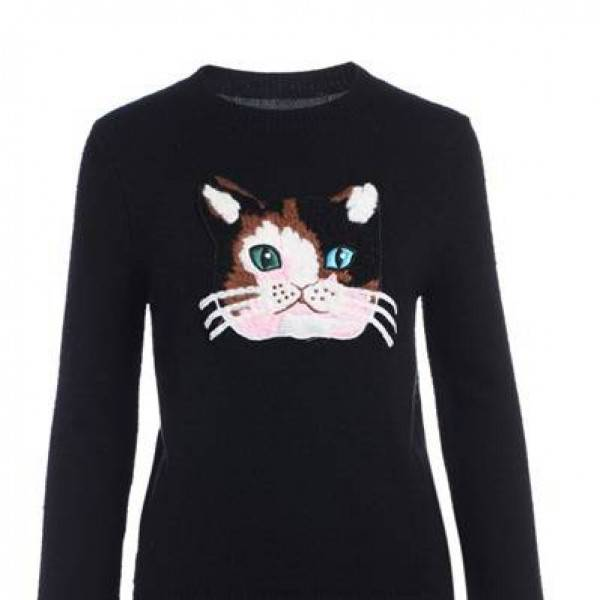cat: (183, 166, 409, 360)
